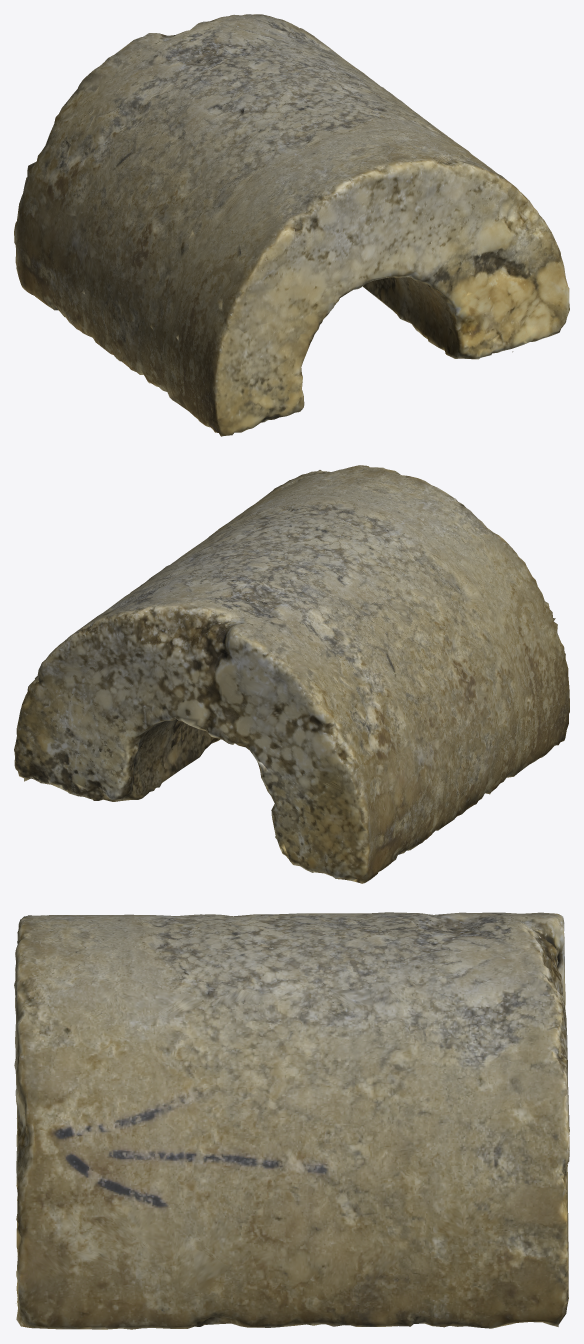
Rendered from rock2.fbx.
The picture shows the model from 3 angles, top to bottom: view 1: azimuth 30°, elevation 25°; view 2: azimuth 150°, elevation 25°; view 3: azimuth 270°, elevation 25°; orthographic projection. The views are drawn at different scales.
Parts seen in each view (by area): view 1: peca3_low; view 2: peca3_low; view 3: peca3_low.
Part boxes in pixels (box(x1,y1,x2,y2)): peca3_low: box(14, 14, 569, 436); peca3_low: box(14, 465, 569, 883); peca3_low: box(14, 912, 569, 1329).
Bounding box in the file's own units: 514 × 323 × 521.
Materials: 1 (1 with a texture image).
